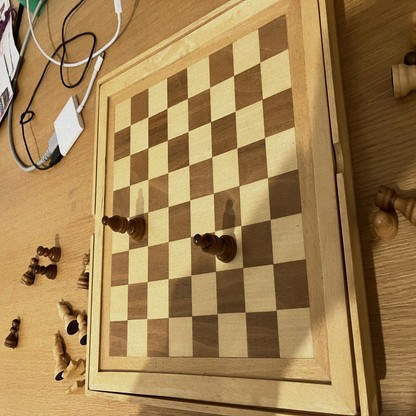bishop_black: (194, 235, 238, 262), (103, 217, 145, 241)
bishop_white: (52, 335, 70, 381)
knight_white: (62, 361, 87, 381), (66, 381, 88, 396)
pawn_black: (4, 319, 19, 349), (38, 245, 60, 263), (21, 258, 36, 284), (34, 266, 57, 280)
pawn_white: (373, 212, 398, 241), (77, 314, 87, 344)
queen_white: (57, 302, 77, 336)
rock_black: (377, 186, 416, 222), (78, 252, 92, 285)
